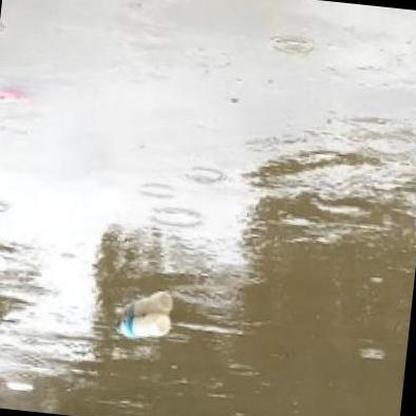plastic bottle: (115, 314, 172, 338)
